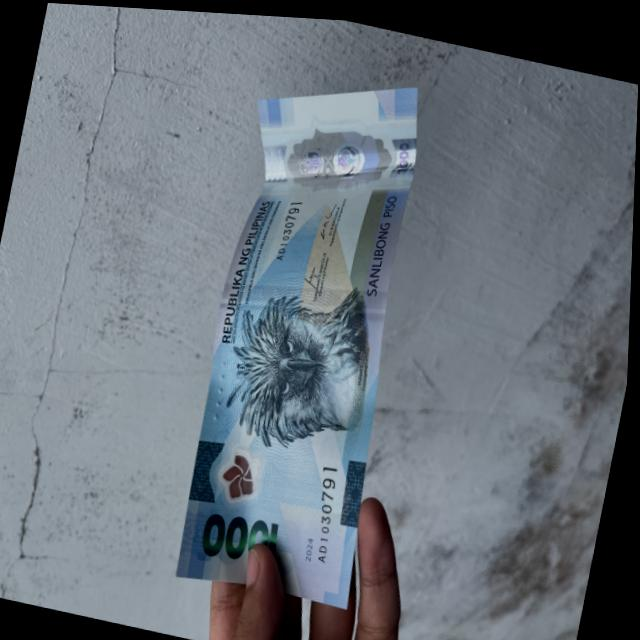clear_window: (282, 107, 397, 205)
eagle: (218, 258, 378, 453)
sampaguita: (212, 435, 289, 508)
security_thread: (222, 278, 390, 312)
serial_number: (299, 444, 359, 571), (268, 187, 308, 268)
value: (198, 496, 291, 578)
value_watermark: (389, 126, 421, 177)
